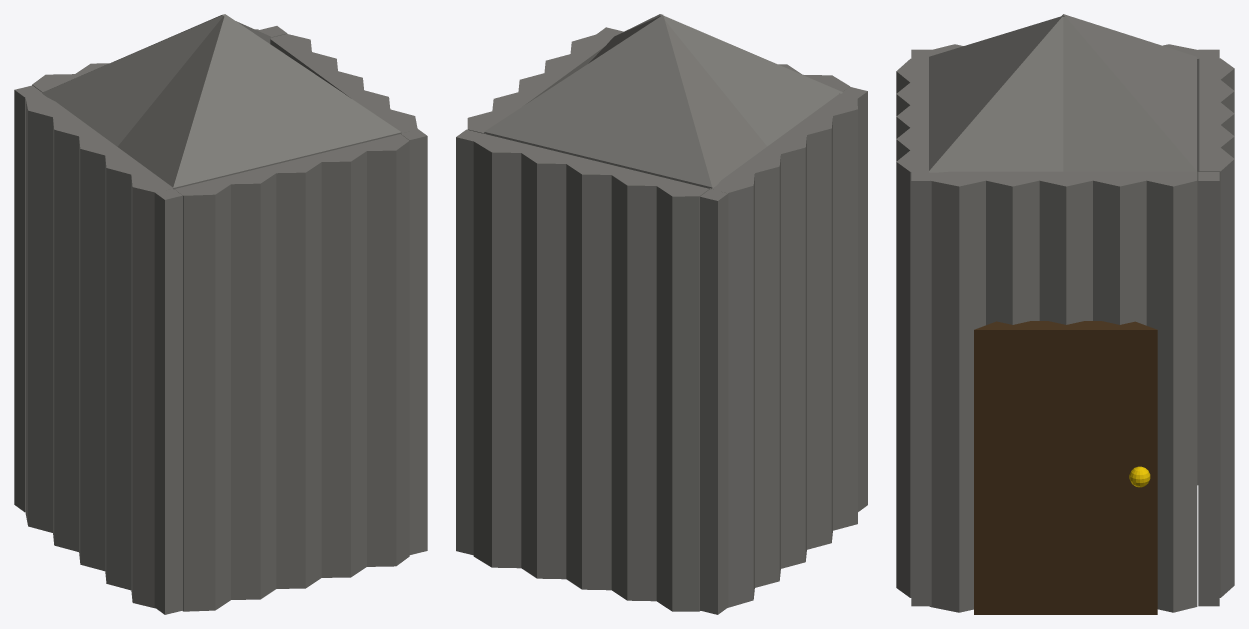
Rendered from the shed.fbx.
The picture shows the model from 3 angles, left to right: view 1: azimuth 30°, elevation 25°; view 2: azimuth 150°, elevation 25°; view 3: azimuth 270°, elevation 25°; orthographic projection. The views are drawn at different scales.
Visible parts, largest first — view 1: Cube.004, Cube.001, Cube.003, Cube.005, Cube.007, Cube.002, Cube.006, Cube; view 2: Cube, Cube.001, Cube.003, Cube.002, Cube.008, Cube.005, Cube.006; view 3: Cube.006, Cube.009, Cube.003, Cube, Cube.004, Cube.008, Cube.007, Cube.001.
Part boxes in pixels (box(x1,y1,x2,y2)): Cube.004: box(174, 134, 409, 611); Cube.001: box(25, 93, 172, 608); Cube.003: box(42, 14, 401, 189); Cube.005: box(154, 188, 182, 614); Cube.007: box(401, 129, 427, 554); Cube.002: box(14, 85, 42, 512); Cube.006: box(270, 34, 417, 133); Cube: box(32, 29, 262, 92); Cube: box(473, 134, 709, 611); Cube.001: box(710, 93, 857, 607); Cube.003: box(484, 14, 842, 188); Cube.002: box(700, 189, 728, 614); Cube.008: box(456, 129, 483, 555); Cube.005: box(841, 87, 867, 511); Cube.006: box(467, 34, 612, 133); Cube.006: box(929, 171, 1197, 612); Cube.009: box(974, 321, 1157, 614); Cube.003: box(929, 14, 1196, 172); Cube: box(1199, 58, 1234, 597); Cube.004: box(896, 58, 928, 597); Cube.008: box(1198, 172, 1219, 606); Cube.007: box(911, 172, 931, 606); Cube.001: box(931, 44, 1198, 485).
Bounding box in the file's own units: 3382 × 5455 × 3170.
